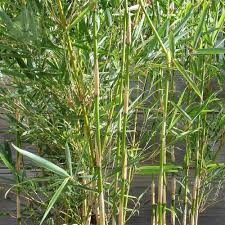bamboo: (10, 6, 132, 225), (146, 4, 221, 225)
